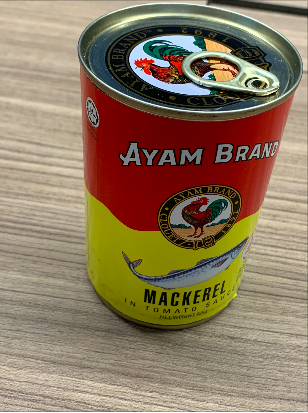Sardines_400-499g: (89, 49, 239, 310)
